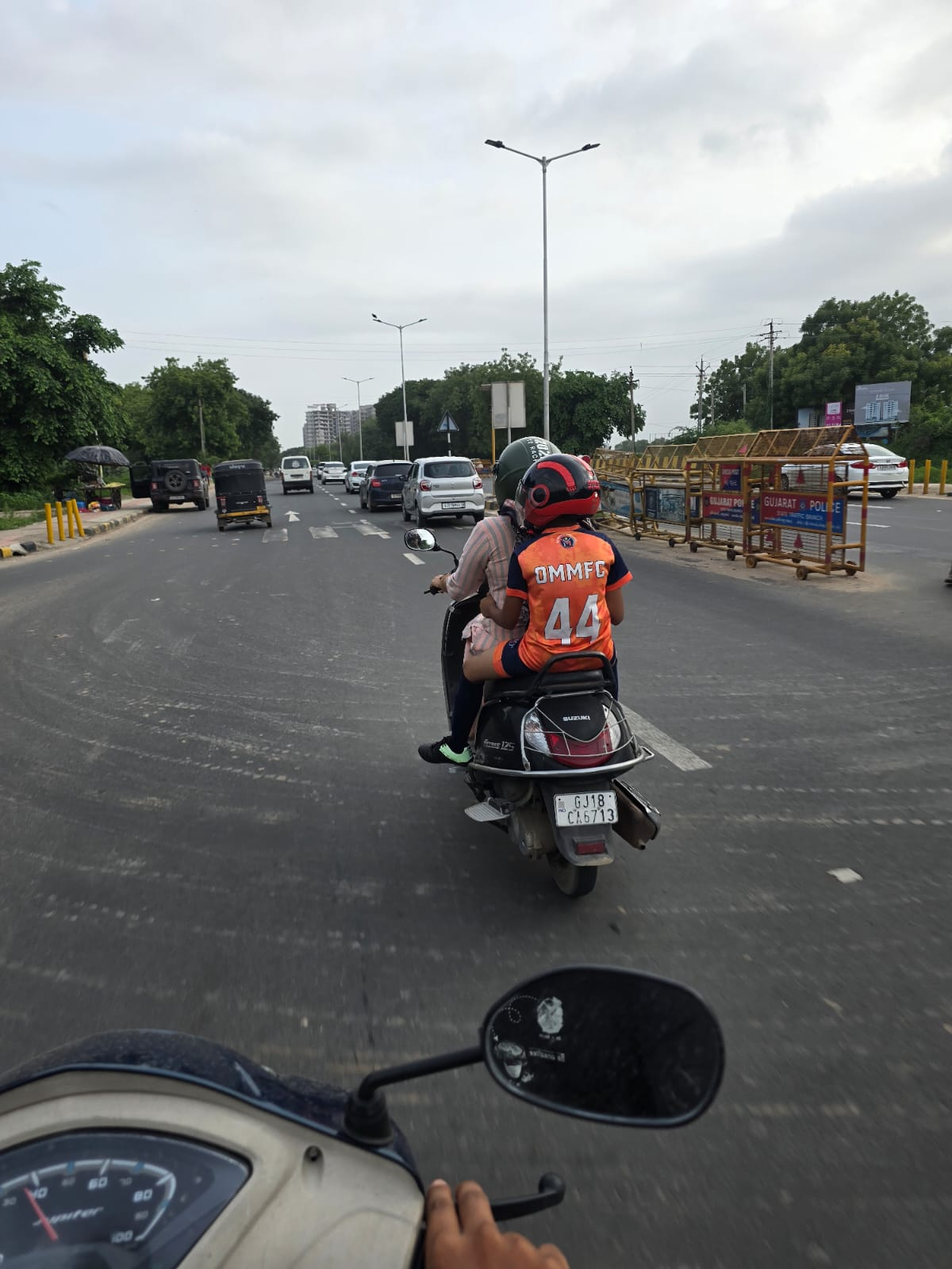BikeWithRider: (386, 419, 676, 906)
Helmet: (513, 450, 608, 538), (487, 431, 573, 516)
